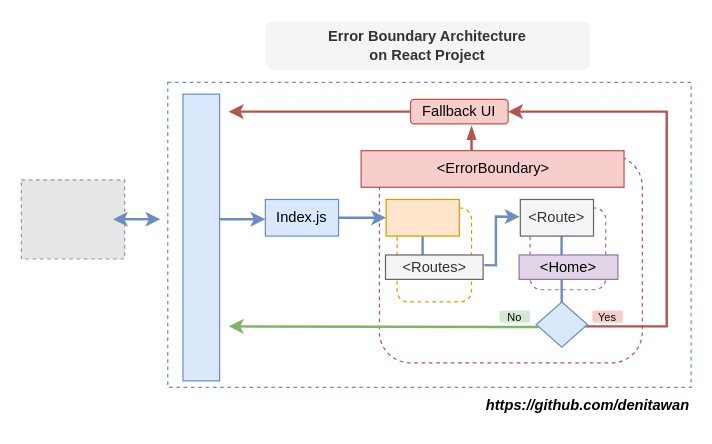
Image size: 712x444. Some labels were removed from this diagram. Grey dashed boxes stand in for pictures. Here are the shapes that lost their labels. From the top down, the centre of each, then its label:
At (201,237): "Render".
At (422,217): "<App>".
At (561,324): "Error ?".
